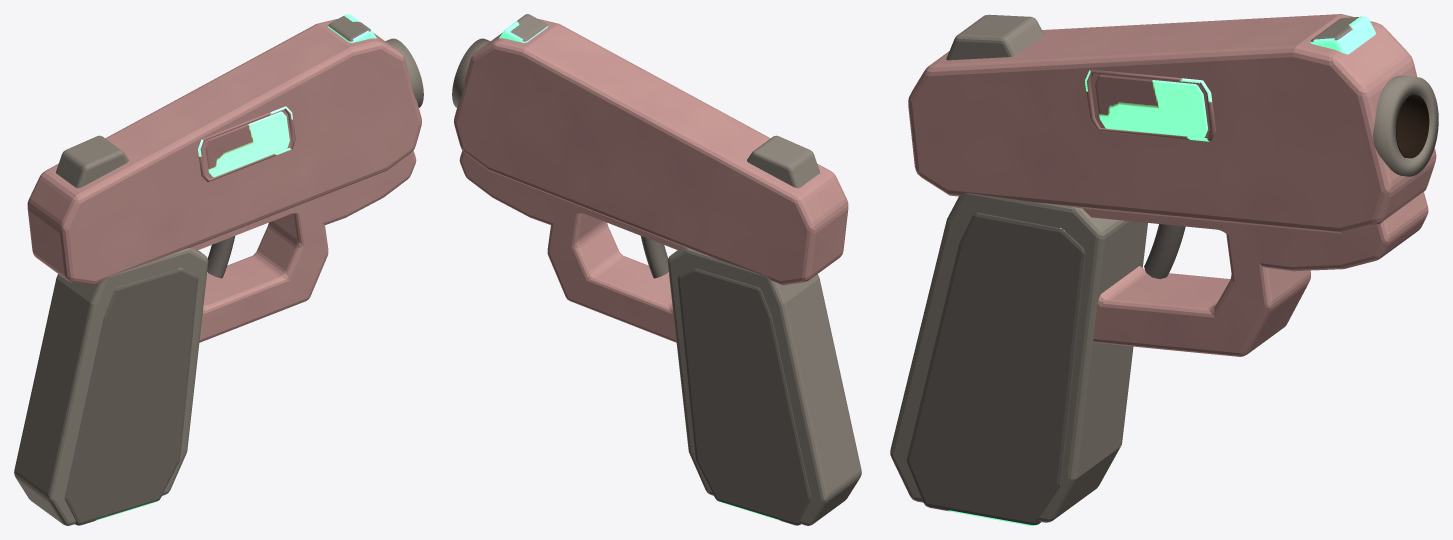
File: asset.fbx
3 views of the same model, side by side, from view 1: azimuth 30°, elevation 25°; view 2: azimuth 150°, elevation 25°; view 3: azimuth 330°, elevation 25° (orthographic). The views are drawn at different scales.
Visible parts, largest first — view 1: item.degradedgun.upper_body__LOD0, item.degradedgun.magazine_like_lower__LOD0, item.degradedgun.grip_shell__LOD0, item.degradedgun.trigger_guard__LOD0, item.degradedgun.lower_frame__LOD0, item.degradedgun.side_panel_recess__LOD0, item.degradedgun.rear_sight__LOD0, item.degradedgun.side_panel_border__LOD0, item.degradedgun.front_sight__LOD0, item.degradedgun.trigger__LOD0, item.degradedgun.muzzle_ring__LOD0; view 2: item.degradedgun.upper_body__LOD0, item.degradedgun.magazine_like_lower__LOD0, item.degradedgun.grip_shell__LOD0, item.degradedgun.trigger_guard__LOD0, item.degradedgun.lower_frame__LOD0, item.degradedgun.rear_sight__LOD0, item.degradedgun.front_sight__LOD0, item.degradedgun.trigger__LOD0, item.degradedgun.muzzle_ring__LOD0; view 3: item.degradedgun.upper_body__LOD0, item.degradedgun.magazine_like_lower__LOD0, item.degradedgun.grip_shell__LOD0, item.degradedgun.trigger_guard__LOD0, item.degradedgun.lower_frame__LOD0, item.degradedgun.side_panel_recess__LOD0, item.degradedgun.muzzle_ring__LOD0, item.degradedgun.rear_sight__LOD0, item.degradedgun.muzzle_recess__LOD0, item.degradedgun.side_panel_border__LOD0, item.degradedgun.front_sight__LOD0, item.degradedgun.trigger__LOD0.
Part boxes in pixels (box(x1,y1,x2,y2)): item.degradedgun.upper_body__LOD0: box(27, 19, 421, 285); item.degradedgun.magazine_like_lower__LOD0: box(64, 268, 198, 525); item.degradedgun.grip_shell__LOD0: box(14, 247, 208, 525); item.degradedgun.trigger_guard__LOD0: box(199, 197, 328, 342); item.degradedgun.lower_frame__LOD0: box(191, 150, 416, 250); item.degradedgun.side_panel_recess__LOD0: box(205, 111, 289, 177); item.degradedgun.rear_sight__LOD0: box(56, 135, 128, 188); item.degradedgun.side_panel_border__LOD0: box(198, 106, 295, 182); item.degradedgun.front_sight__LOD0: box(328, 14, 376, 42); item.degradedgun.trigger__LOD0: box(207, 236, 234, 278); item.degradedgun.muzzle_ring__LOD0: box(385, 38, 423, 107); item.degradedgun.upper_body__LOD0: box(454, 19, 848, 285); item.degradedgun.magazine_like_lower__LOD0: box(677, 268, 811, 525); item.degradedgun.grip_shell__LOD0: box(667, 247, 861, 525); item.degradedgun.trigger_guard__LOD0: box(547, 213, 676, 342); item.degradedgun.lower_frame__LOD0: box(459, 150, 684, 250); item.degradedgun.rear_sight__LOD0: box(747, 135, 819, 188); item.degradedgun.front_sight__LOD0: box(499, 14, 547, 42); item.degradedgun.trigger__LOD0: box(641, 236, 668, 278); item.degradedgun.muzzle_ring__LOD0: box(452, 38, 490, 107); item.degradedgun.upper_body__LOD0: box(908, 14, 1436, 233); item.degradedgun.magazine_like_lower__LOD0: box(906, 212, 1085, 525); item.degradedgun.grip_shell__LOD0: box(890, 193, 1147, 522); item.degradedgun.trigger_guard__LOD0: box(1093, 222, 1310, 356); item.degradedgun.lower_frame__LOD0: box(1083, 192, 1428, 271); item.degradedgun.side_panel_recess__LOD0: box(1095, 75, 1208, 137); item.degradedgun.muzzle_ring__LOD0: box(1373, 75, 1438, 176); item.degradedgun.rear_sight__LOD0: box(946, 14, 1043, 60); item.degradedgun.muzzle_recess__LOD0: box(1396, 94, 1429, 158); item.degradedgun.side_panel_border__LOD0: box(1085, 69, 1215, 141); item.degradedgun.front_sight__LOD0: box(1310, 16, 1375, 54); item.degradedgun.trigger__LOD0: box(1144, 224, 1185, 278).
Size of the model in its own units: 0.2623 by 0.2778 by 0.0476.
